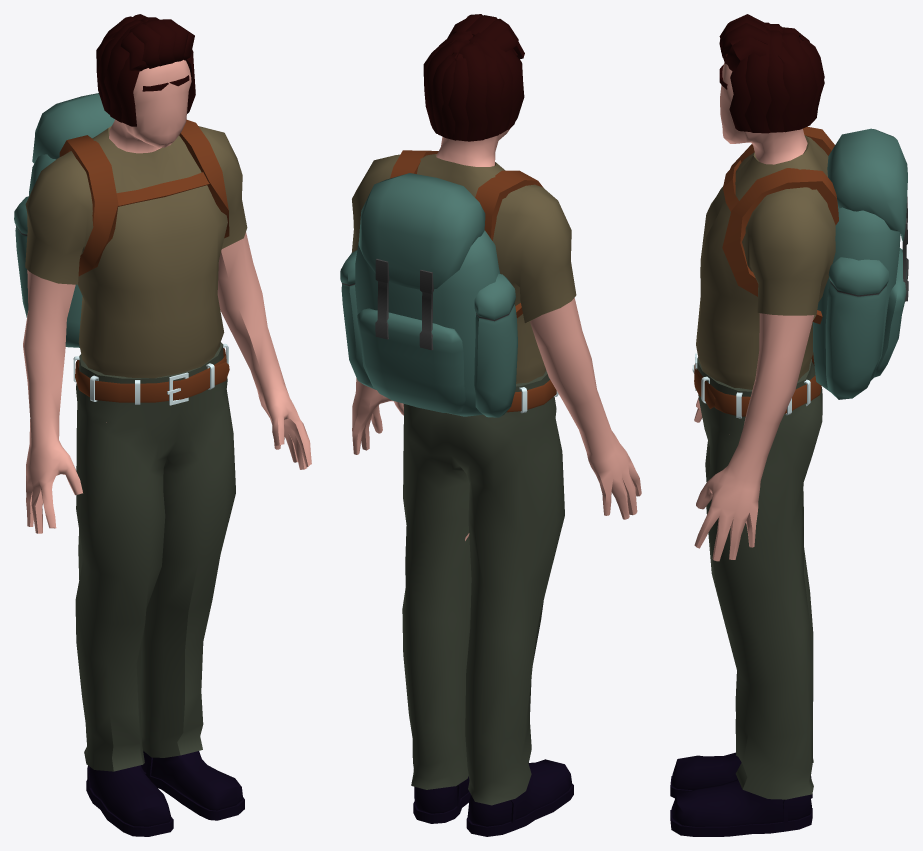
The picture shows the model from 3 angles, left to right: view 1: azimuth 30°, elevation 25°; view 2: azimuth 150°, elevation 25°; view 3: azimuth 270°, elevation 25°; orthographic projection.
Visible parts, largest first — view 1: hiker man; view 2: hiker man; view 3: hiker man.
Boxes of the visible parts, x1=… form: hiker man: x1=14, y1=14, x2=311, y2=836; hiker man: x1=340, y1=14, x2=641, y2=836; hiker man: x1=670, y1=14, x2=908, y2=836.
Bounding box in the file's own units: 65.57 × 179 × 49.05.
